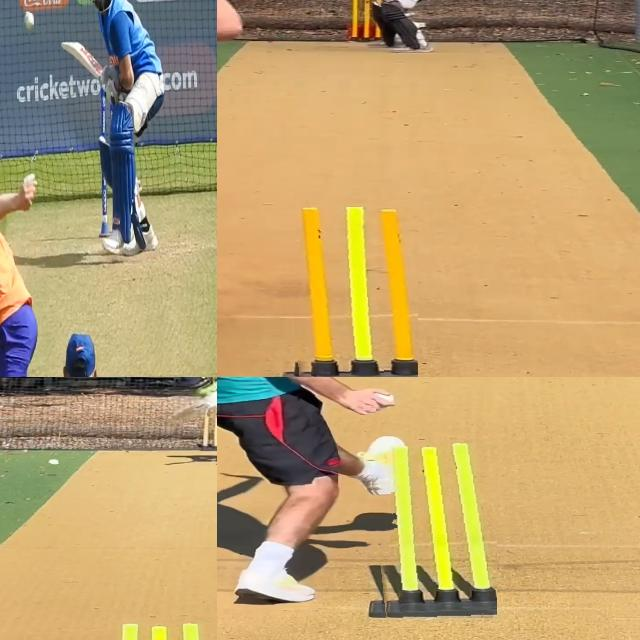Cricket ball: (22, 8, 34, 36), (46, 458, 60, 466)
Stumps: (368, 443, 497, 622), (282, 206, 417, 377), (350, 0, 383, 42)
